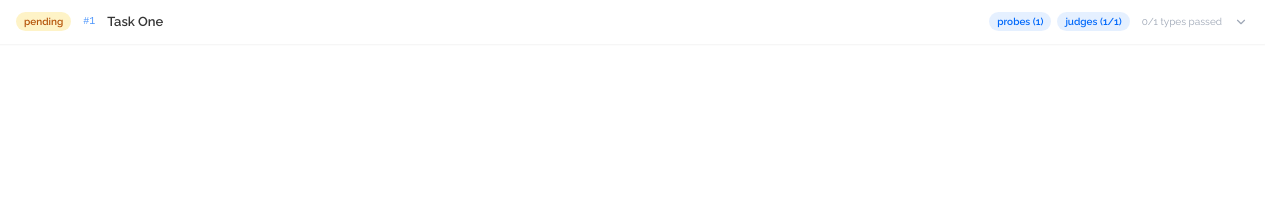
PlayerTaskPanel › clicking a section badge expands the panel and opens that tab
Step 1. Click the button with test id "task-section-judges-1" → (1094, 22), box [1057,12,1130,31]
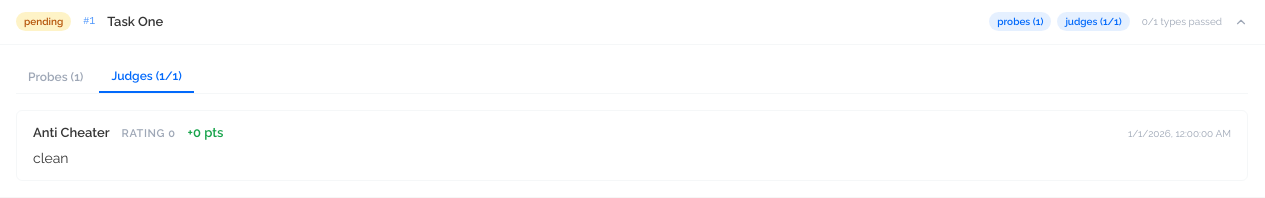
Check: the element showing "Probes (1) Judges (1/1)" is shown, box [16,60,1248,94]
Check: the panel with test id "task-judges-1" is shown, box [16,110,1248,181]
